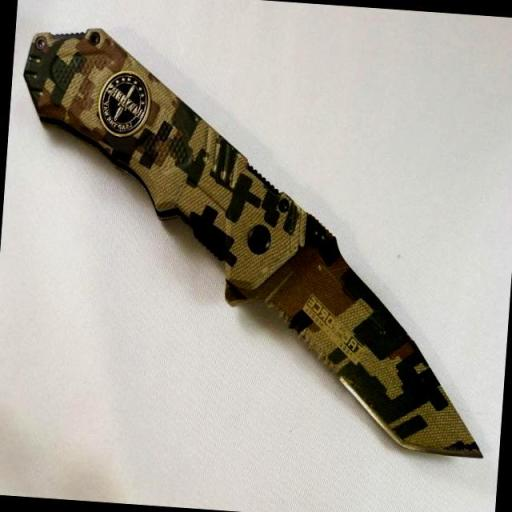knife: (219, 180, 508, 469)
